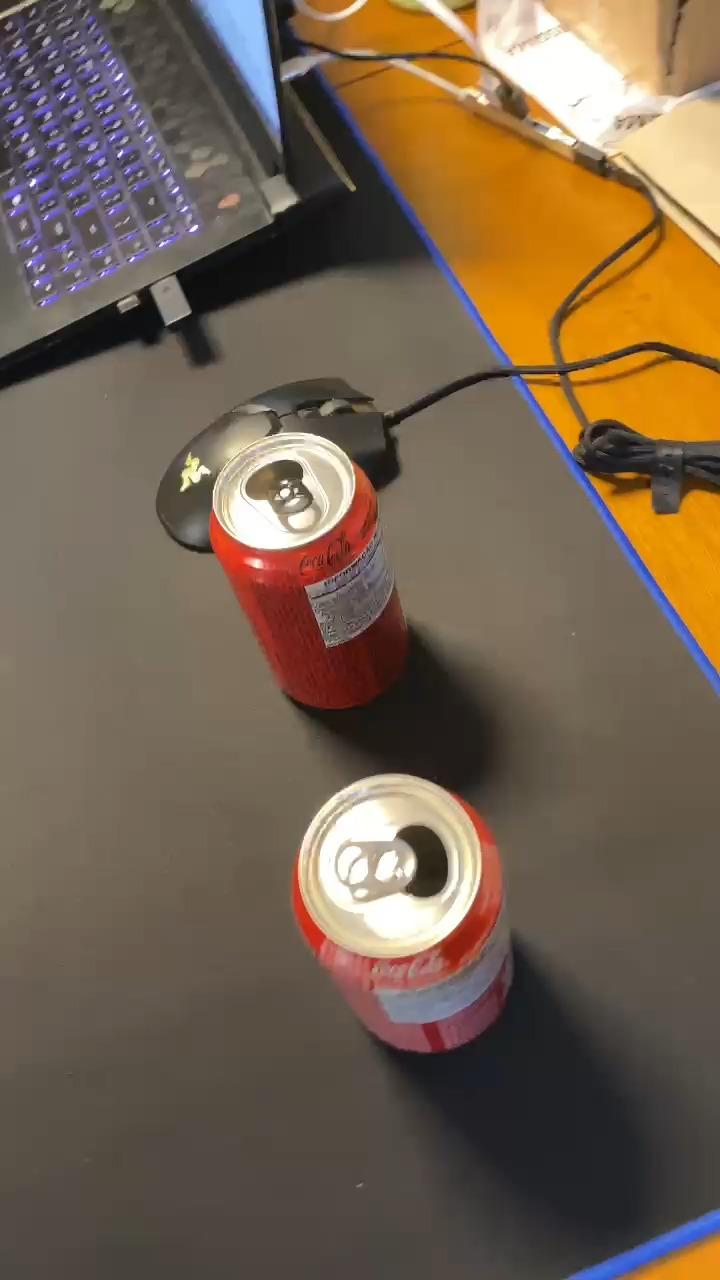coke: (291, 771, 512, 1053), (205, 432, 408, 707)
